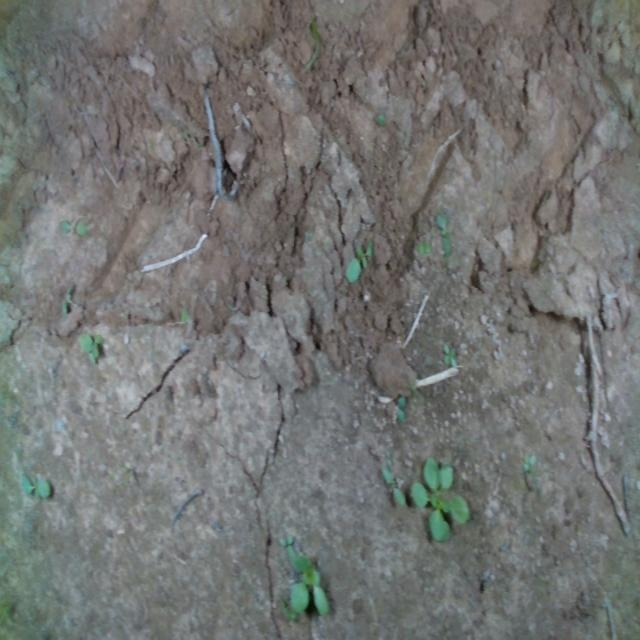weed: (343, 236, 373, 282), (381, 465, 405, 507), (20, 471, 51, 500), (436, 207, 452, 257), (442, 342, 456, 371), (523, 452, 537, 474), (414, 239, 432, 255), (396, 394, 406, 422)
